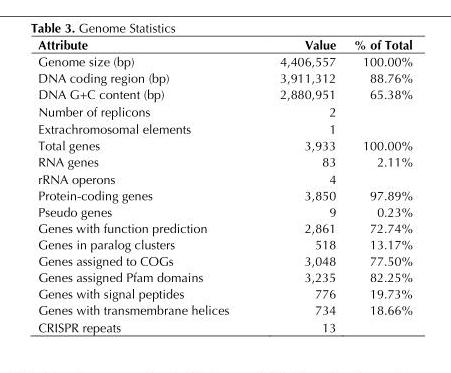table: (37, 36, 411, 334)
table column: (37, 36, 253, 334), (253, 36, 344, 334), (344, 36, 411, 334)
table column header: (37, 36, 411, 52)
table row: (37, 102, 411, 120), (37, 52, 411, 69), (37, 85, 411, 102), (37, 136, 411, 153), (37, 153, 411, 170), (37, 170, 411, 187), (37, 219, 411, 236), (37, 268, 411, 285), (37, 301, 411, 318), (37, 36, 411, 52), (37, 69, 411, 85), (37, 120, 411, 136), (37, 187, 411, 203), (37, 203, 411, 219), (37, 236, 411, 252), (37, 252, 411, 268), (37, 285, 411, 301), (37, 318, 411, 334)
